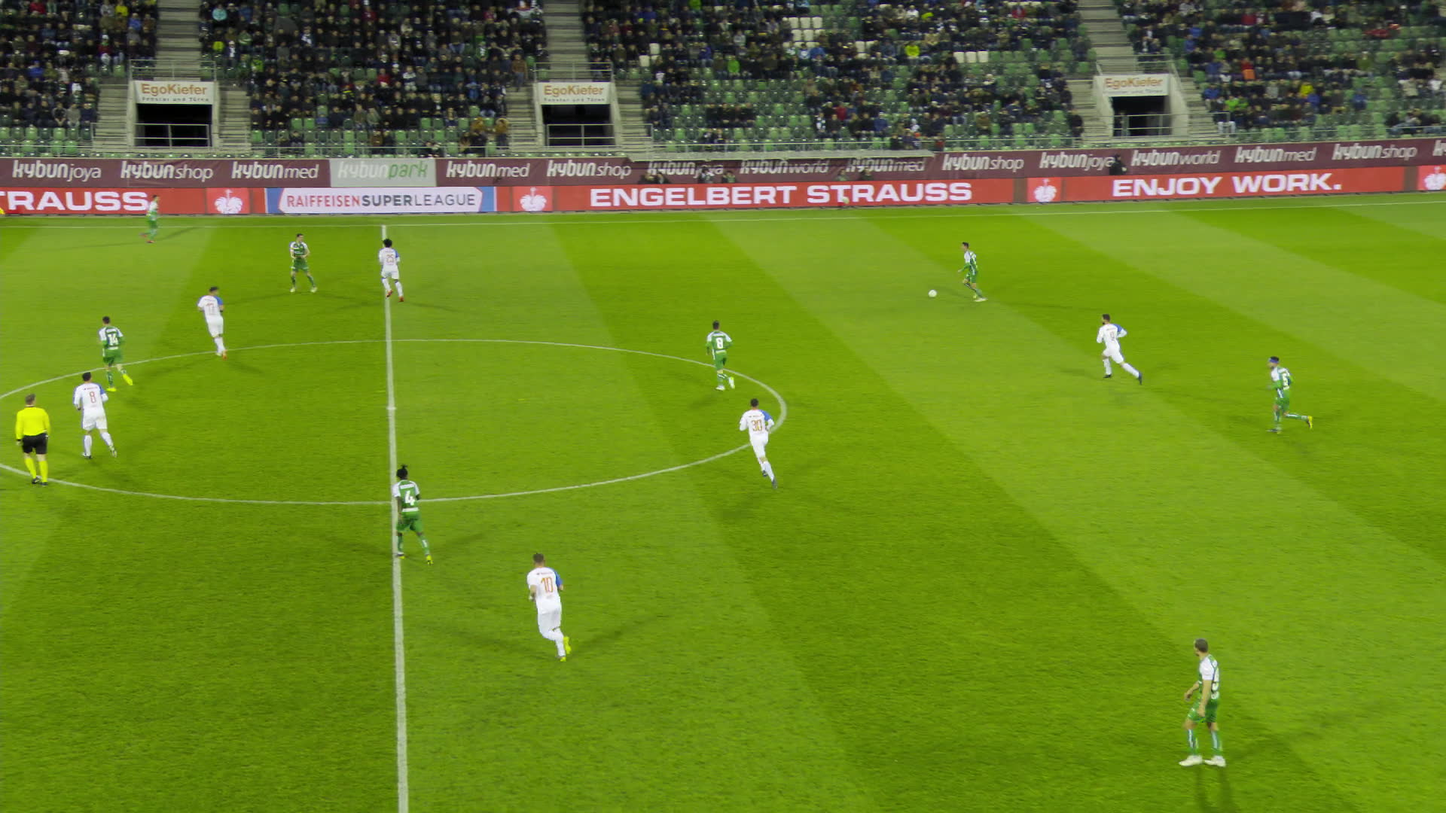ball: (929, 290, 936, 297)
player: (1181, 638, 1228, 767), (523, 550, 577, 661), (1260, 354, 1314, 433), (392, 461, 431, 565), (72, 370, 115, 462), (738, 399, 779, 489), (1097, 314, 1138, 388), (96, 315, 133, 392), (194, 285, 230, 361), (703, 318, 736, 392), (288, 233, 315, 293), (377, 238, 401, 303), (959, 240, 984, 301), (134, 193, 157, 243)
referee: (12, 393, 50, 485)
